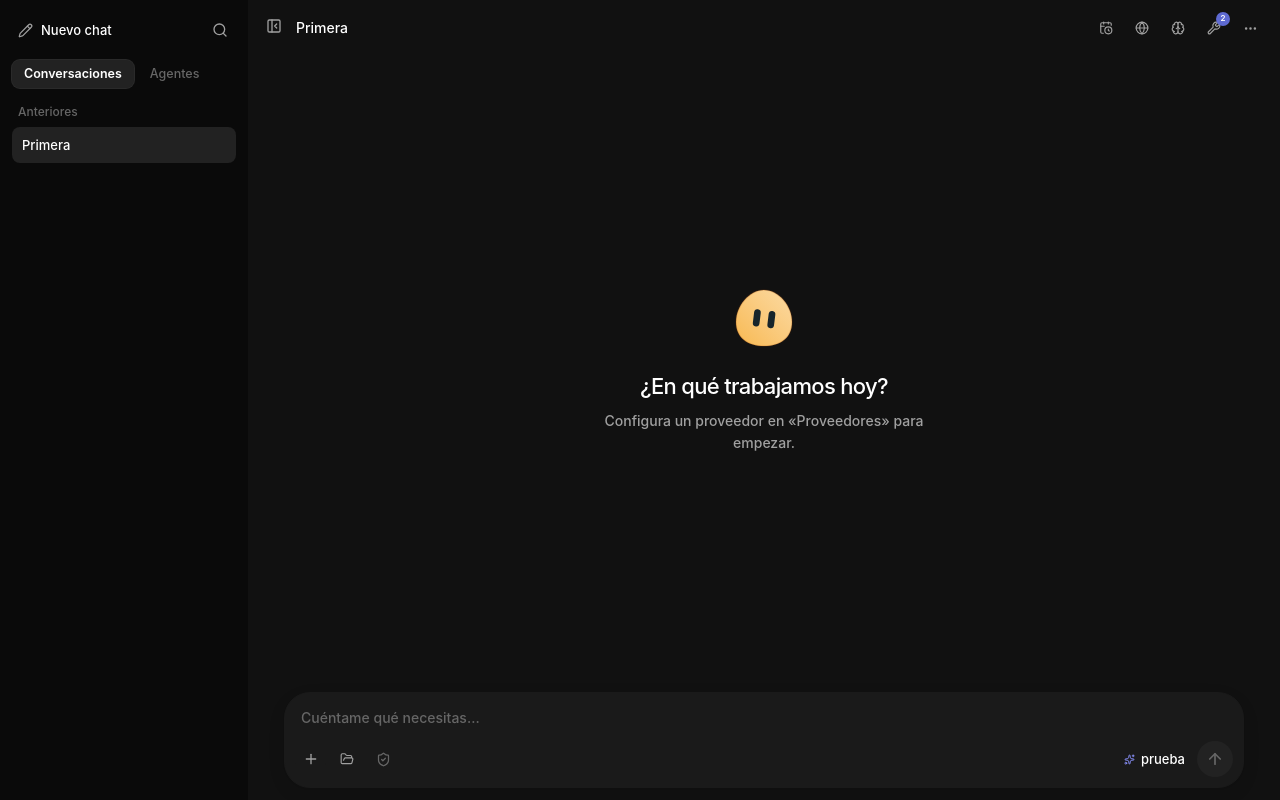
Test: filtra skills y MCP sin instalar ni habilitar capacidades automáticamente
The width and height of the screenshot is (1280, 800).
Click the button named "Herramientas del agente" at (1214, 28), box top-left (1200, 14), bottom-right (1228, 42)
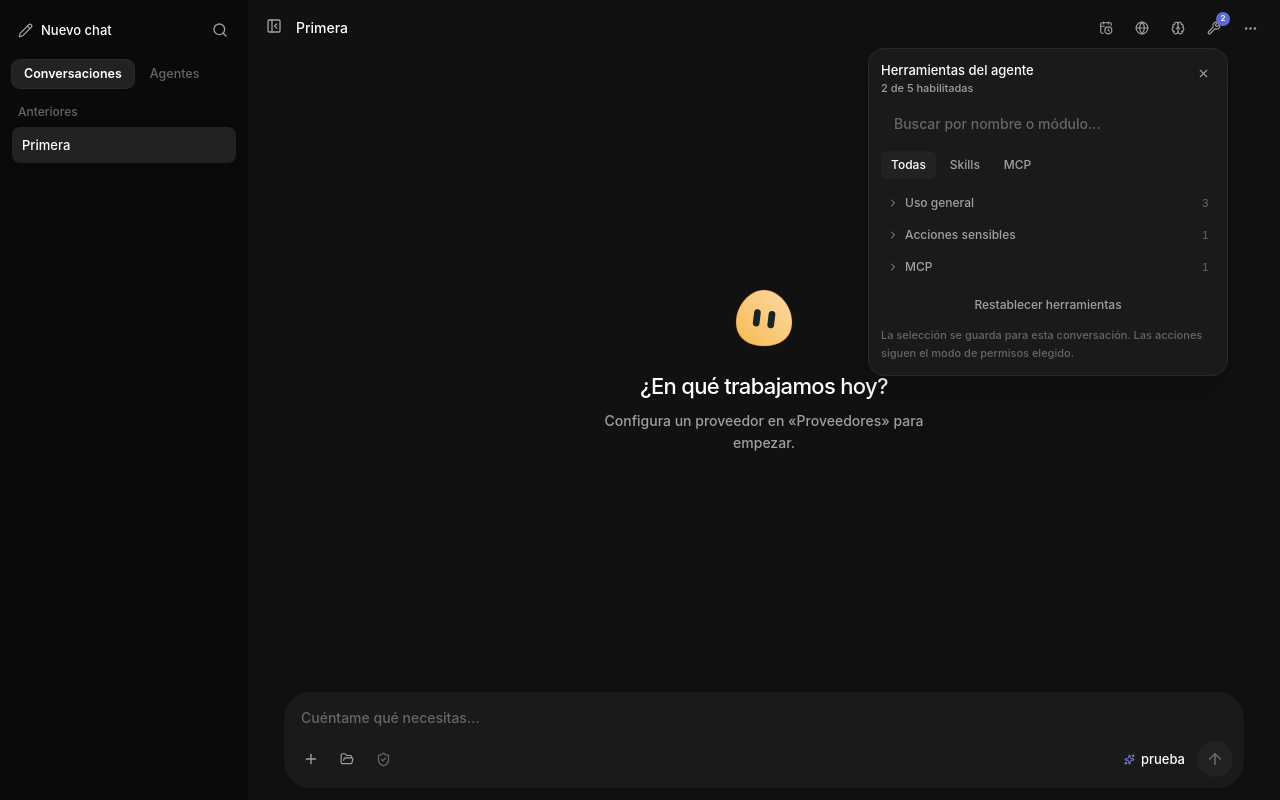
Click the button "Skills" at (965, 165), box top-left (940, 151), bottom-right (990, 179)
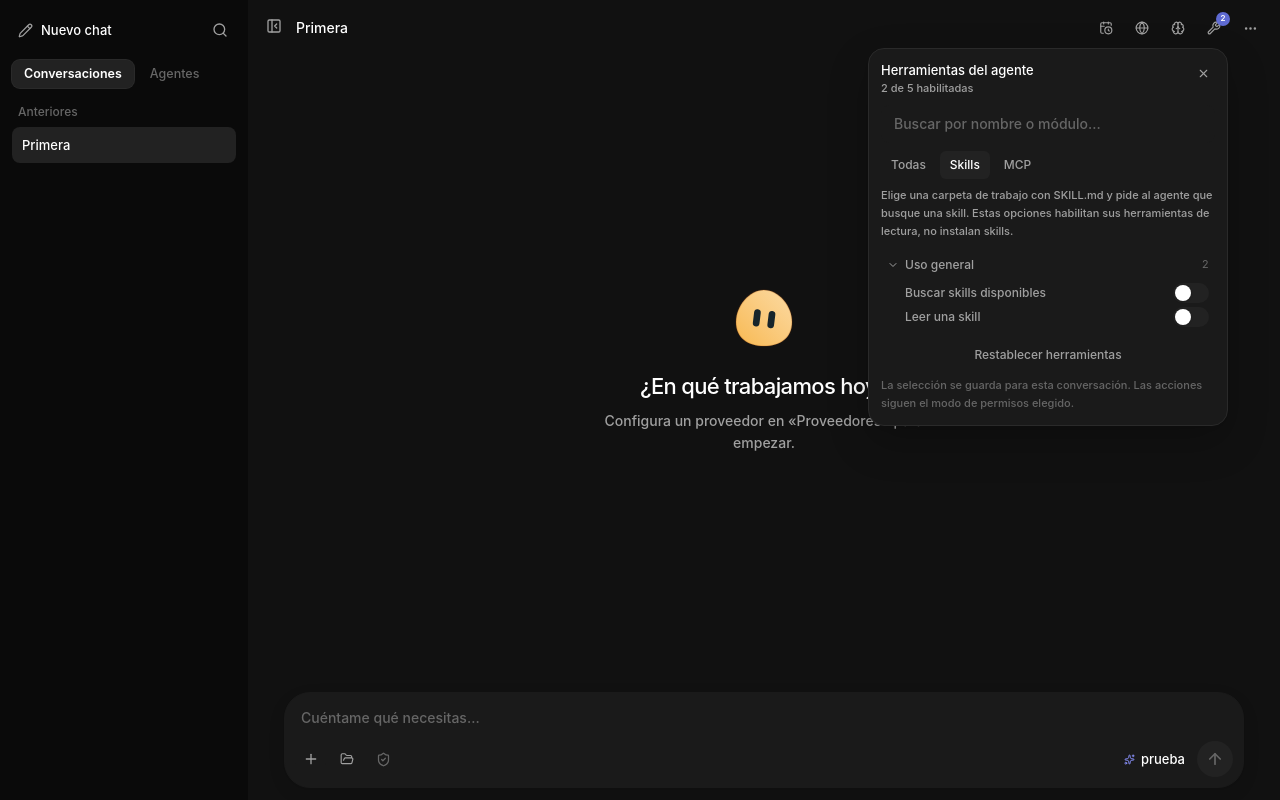
Expected: the number of switches is 2, top-left (1173, 283), bottom-right (1209, 303); top-left (1173, 307), bottom-right (1209, 327)
Expected: the text "no instalan skills" is shown, top-left (881, 188), bottom-right (1212, 238)
Click the button "MCP" at (1018, 165), box top-left (994, 151), bottom-right (1041, 179)
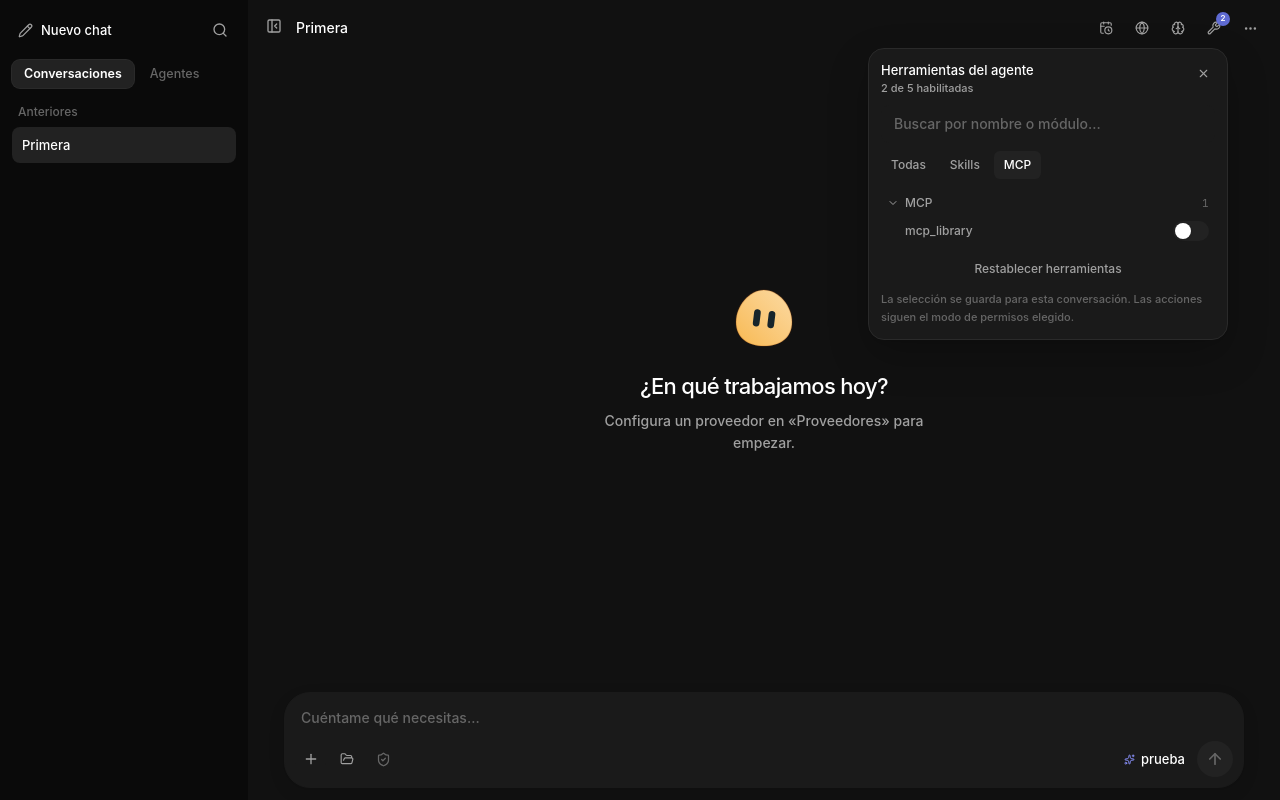
Expected: the number of switches is 1, top-left (1173, 221), bottom-right (1209, 241)
Click the button "Skills" at (965, 165), box top-left (940, 151), bottom-right (990, 179)
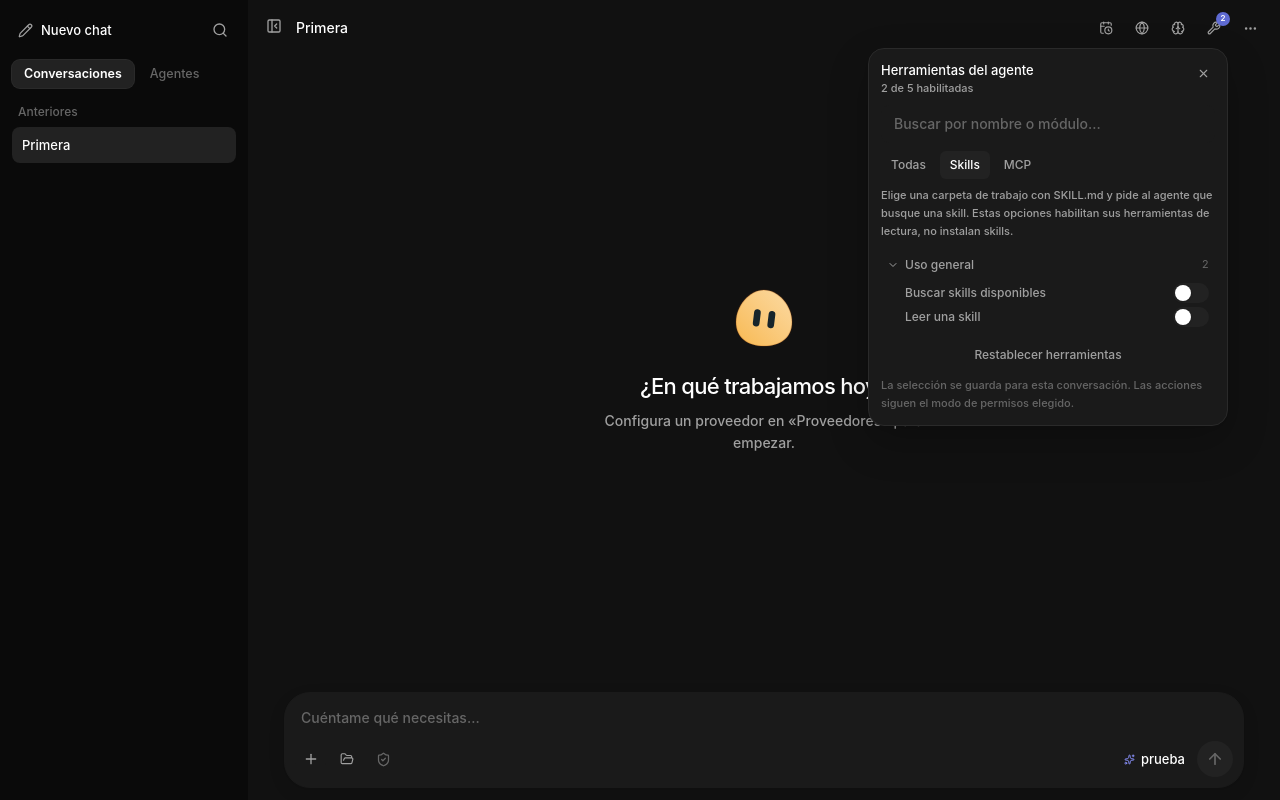
Click the switch named "Habilitar skills_list" at (1191, 293), box top-left (1173, 283), bottom-right (1209, 303)
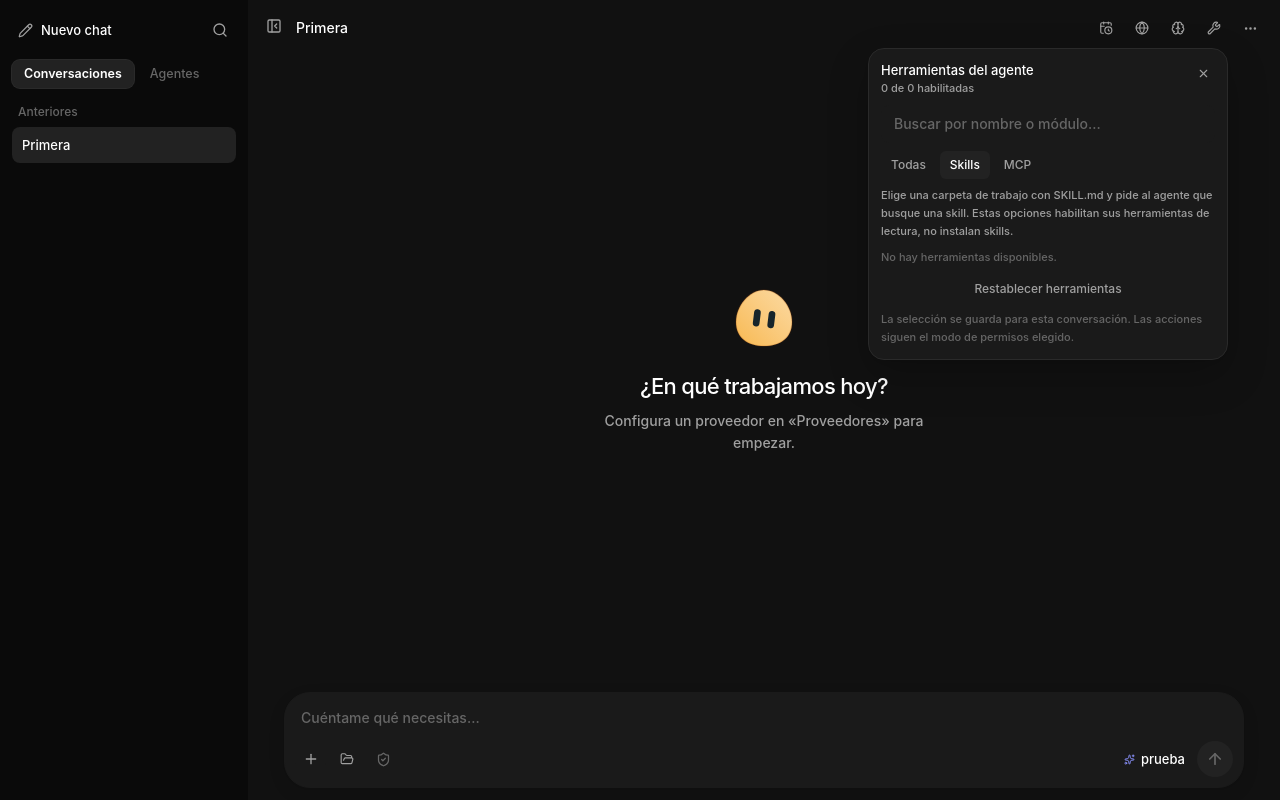
Press Escape
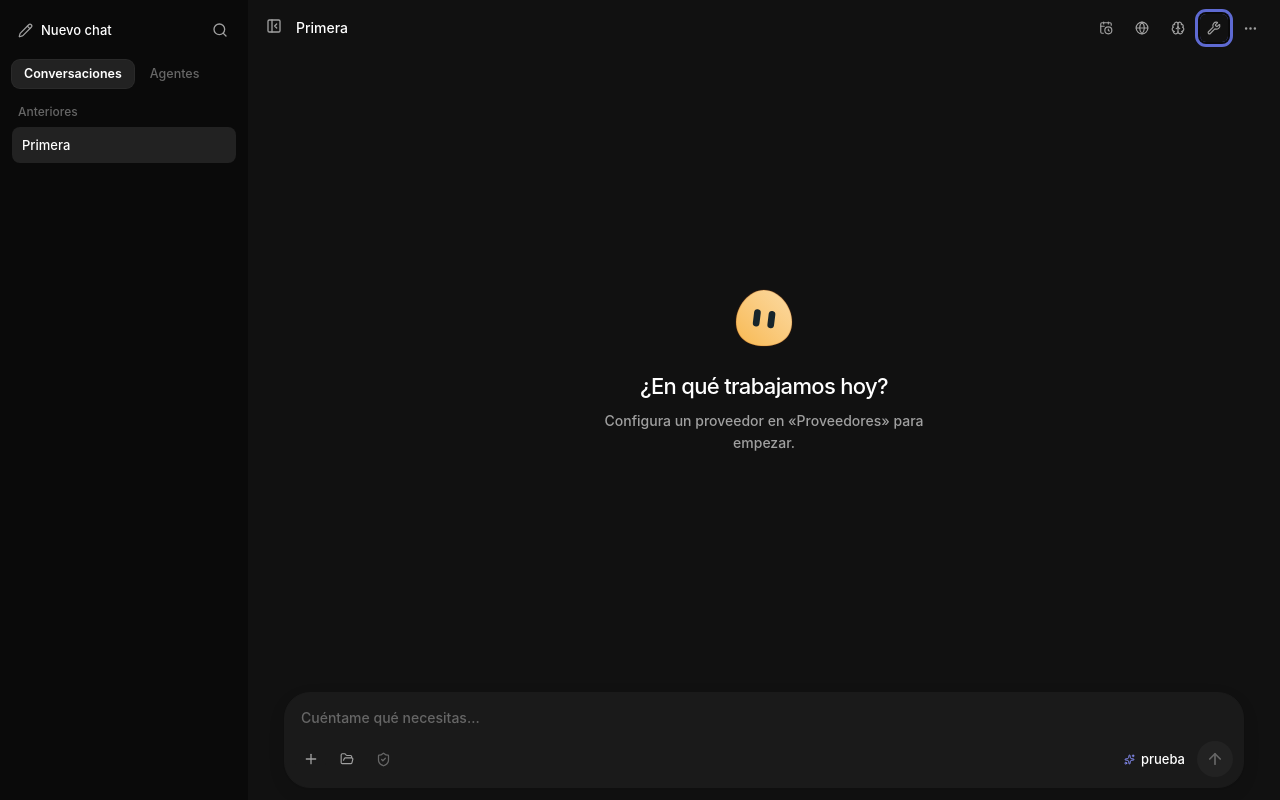
Expected: the heading "Herramientas del agente" is gone
